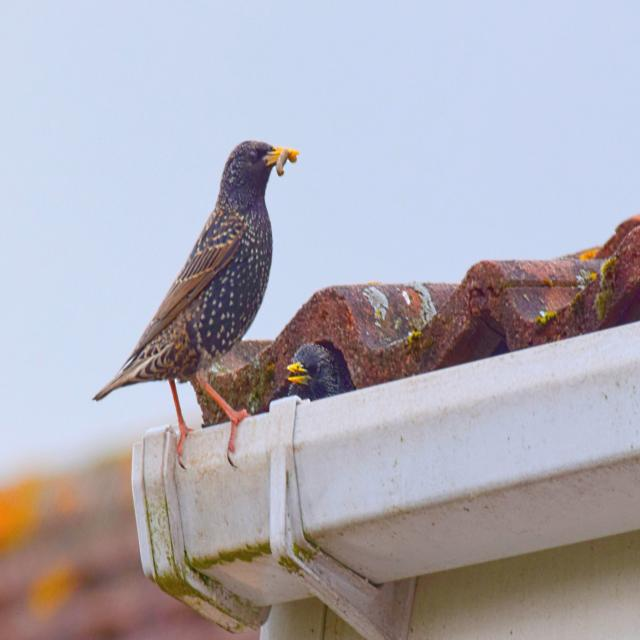bird: (90, 138, 300, 467), (270, 339, 357, 404)
